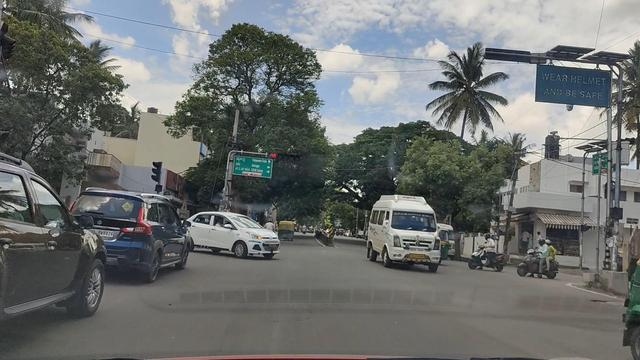LMV: (0, 155, 103, 329), (87, 185, 194, 273), (185, 204, 282, 259)
